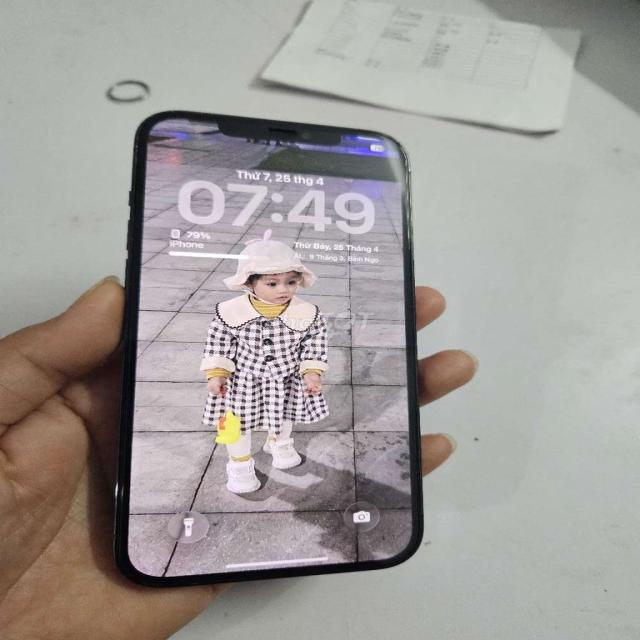gen_12_13: (103, 104, 432, 596)
